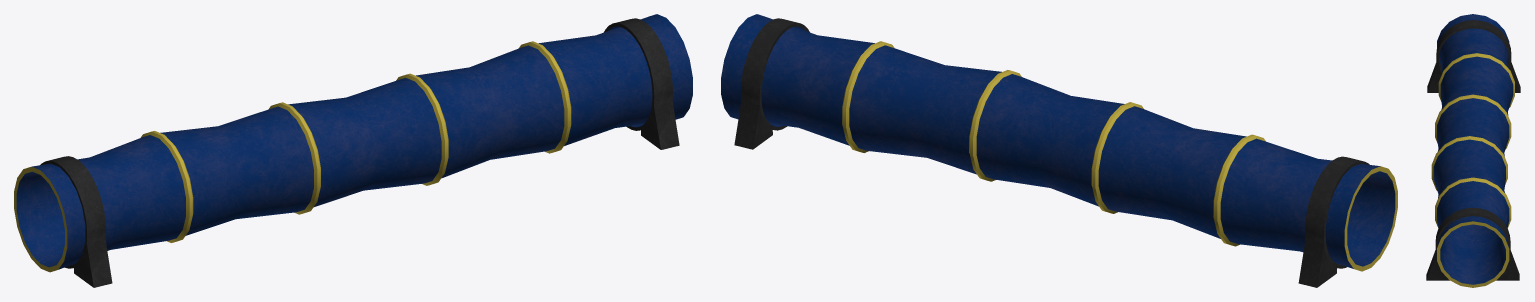
The model's file is tunnel01.fbx.
3 renders of one model, left to right at view 1: azimuth 30°, elevation 25°; view 2: azimuth 150°, elevation 25°; view 3: azimuth 270°, elevation 25°, orthographic. The views are drawn at different scales.
Visible parts, largest first — view 1: tunnel01; view 2: tunnel01; view 3: tunnel01.
Part boxes in pixels (box(x1,y1,x2,y2)): tunnel01: box(14, 14, 692, 287); tunnel01: box(721, 14, 1397, 287); tunnel01: box(1426, 14, 1520, 287).
Bounding box in the file's own units: 335 × 52.98 × 64.23.
